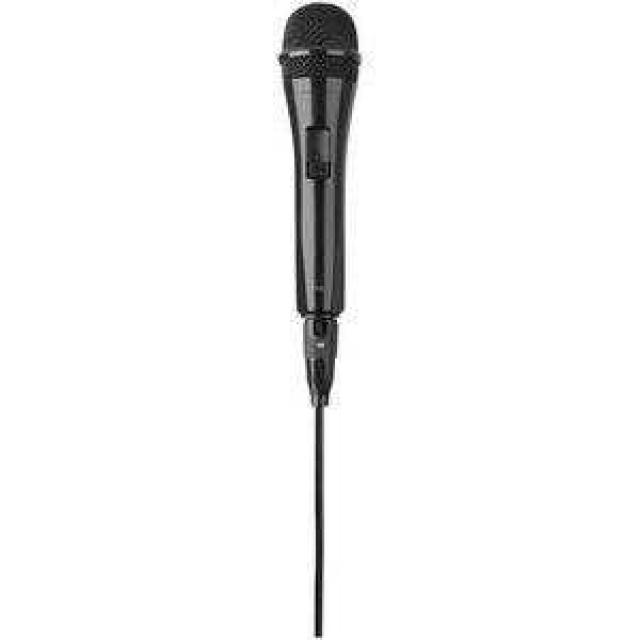microphone: (280, 9, 366, 624)
